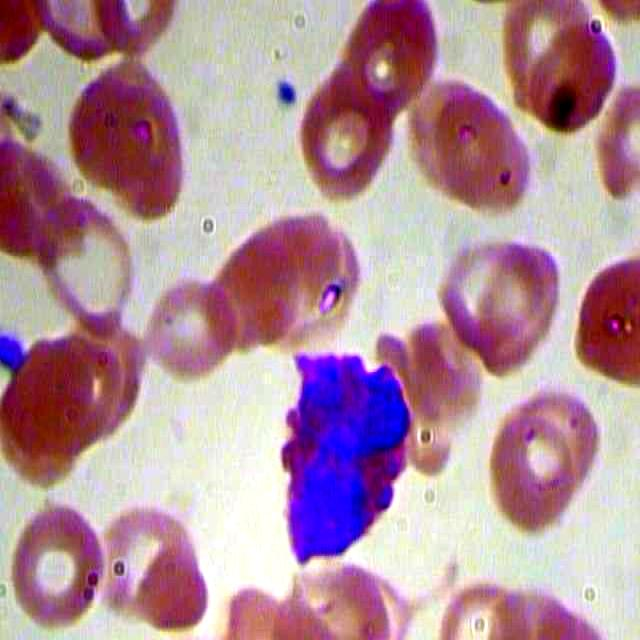Platelets: (266, 72, 304, 111), (1, 333, 29, 376)
RBC: (61, 51, 192, 234), (37, 190, 139, 342), (4, 502, 110, 634), (294, 66, 400, 198), (337, 1, 441, 128), (485, 410, 584, 542), (429, 86, 528, 218), (435, 240, 548, 355), (524, 20, 623, 141), (567, 257, 640, 392), (146, 278, 231, 382), (136, 526, 216, 634), (435, 568, 527, 636), (598, 80, 640, 203)
WBC: (253, 340, 439, 573)
